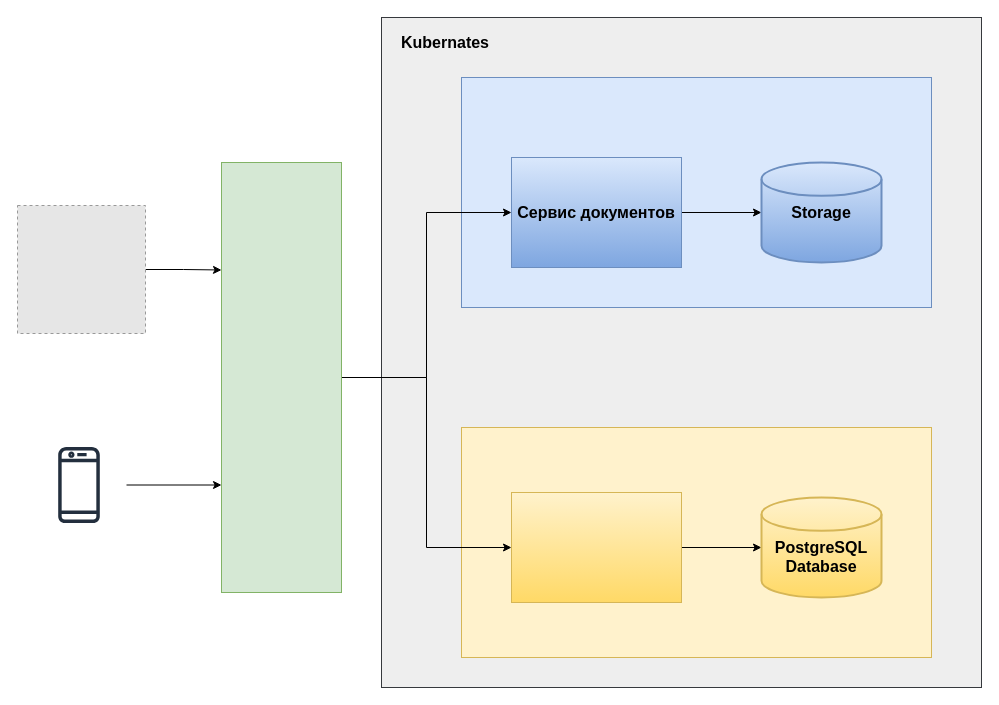
Image size: 999x705. Some labels were removed from this diagram. Grey dashed boxes stand in for pictures. Each missing label, with the centre of its shape:
"API GATEWAY" belongs at (281,377).
"Сервис мессенджера" belongs at (596,547).
